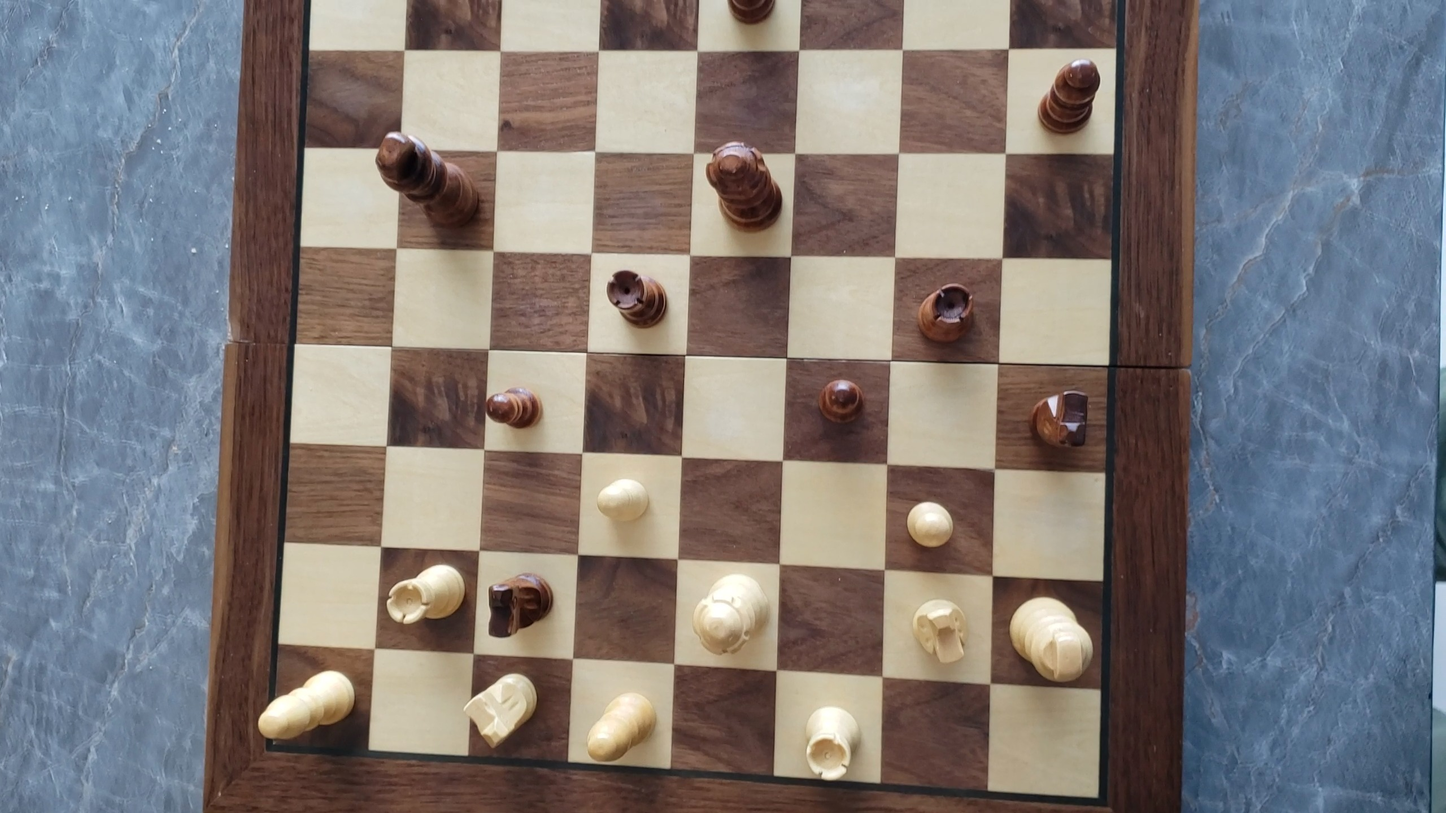black-bishop: (1036, 54, 1103, 134)
black-king: (373, 128, 482, 230)
black-knight: (485, 569, 555, 639), (1029, 387, 1091, 448)
black-pawn: (480, 380, 558, 436), (816, 374, 865, 426)
black-queen: (703, 136, 783, 231)
black-rook: (914, 279, 977, 345), (605, 266, 669, 329)
white-bishop: (258, 664, 363, 743), (581, 687, 660, 766)
white-king: (1006, 586, 1096, 686)
white-knight: (460, 669, 543, 753), (897, 595, 977, 671)
white-pawn: (591, 474, 655, 527), (901, 496, 959, 551)
white-queen: (682, 569, 779, 668)
white-rook: (374, 559, 472, 639), (801, 698, 868, 787)
